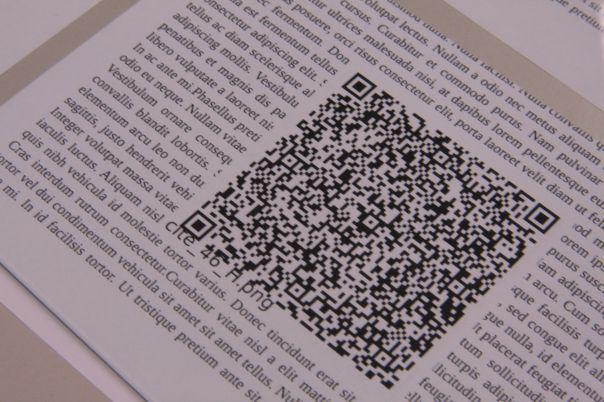Finder pattern: (522, 203, 561, 234), (178, 211, 217, 242), (340, 74, 375, 99)
